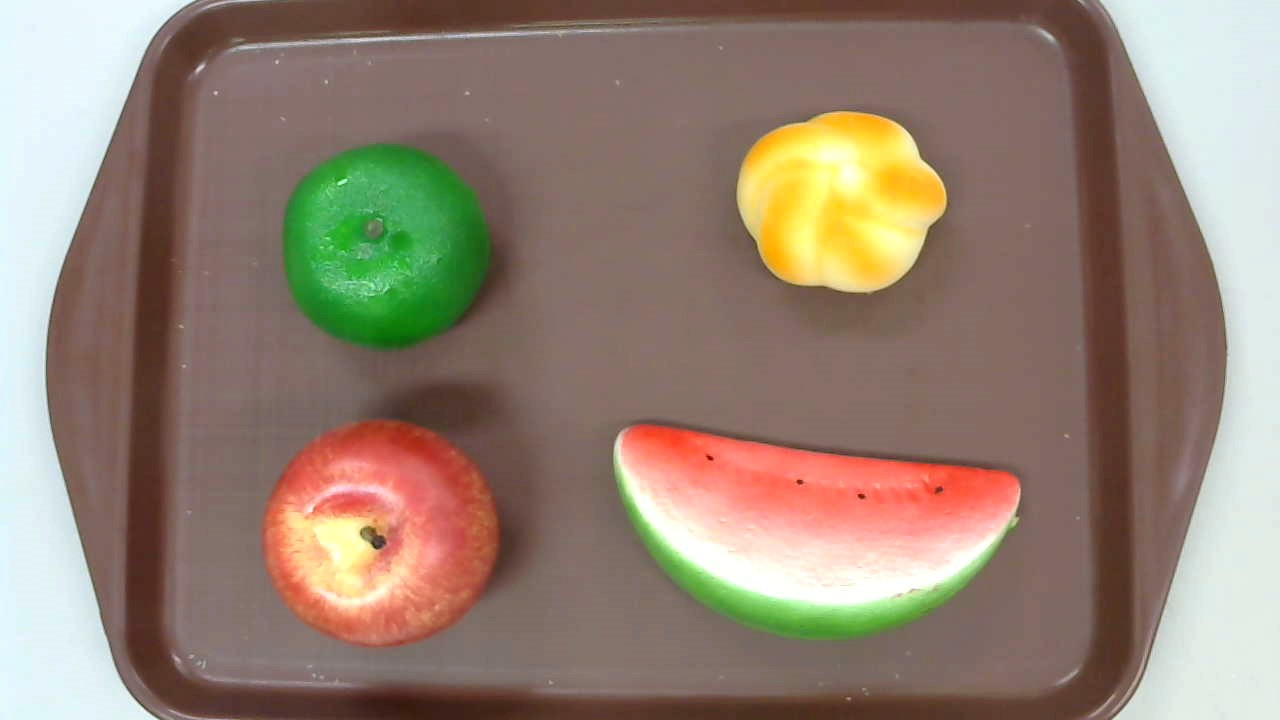green orange: (282, 144, 491, 352)
red apple: (262, 417, 500, 651)
twist bread: (736, 111, 948, 293)
watermelon: (613, 422, 1022, 642)
